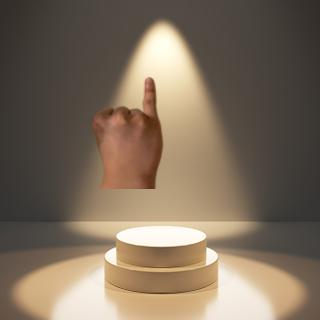FINE: (88, 75, 166, 180)
